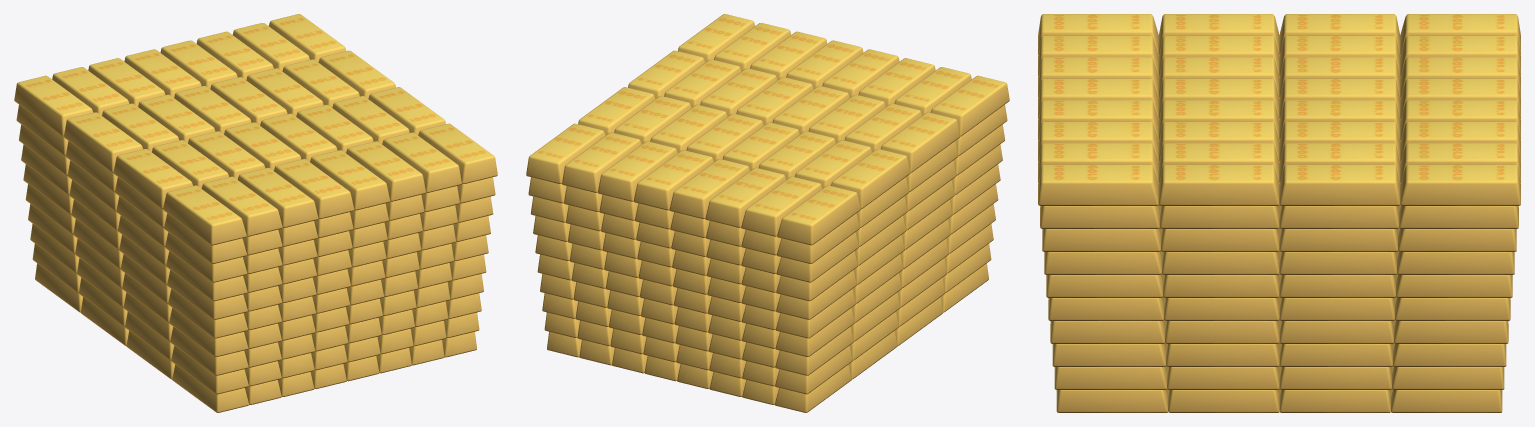
Rendered from BankGoldBars01_1.FBX.
3 renders of one model, left to right at view 1: azimuth 30°, elevation 25°; view 2: azimuth 150°, elevation 25°; view 3: azimuth 270°, elevation 25°, orthographic. The views are drawn at different scales.
Visible parts, largest first — view 1: BankGoldBars01_1; view 2: BankGoldBars01_1; view 3: BankGoldBars01_1.
Boxes of the visible parts, x1,y1,x2,y2 form: BankGoldBars01_1: (14,14,497,412); BankGoldBars01_1: (526,14,1009,412); BankGoldBars01_1: (1038,14,1520,412).
Size of what is drawn, in the model's own units: 1.4 by 0.9159 by 1.68.
